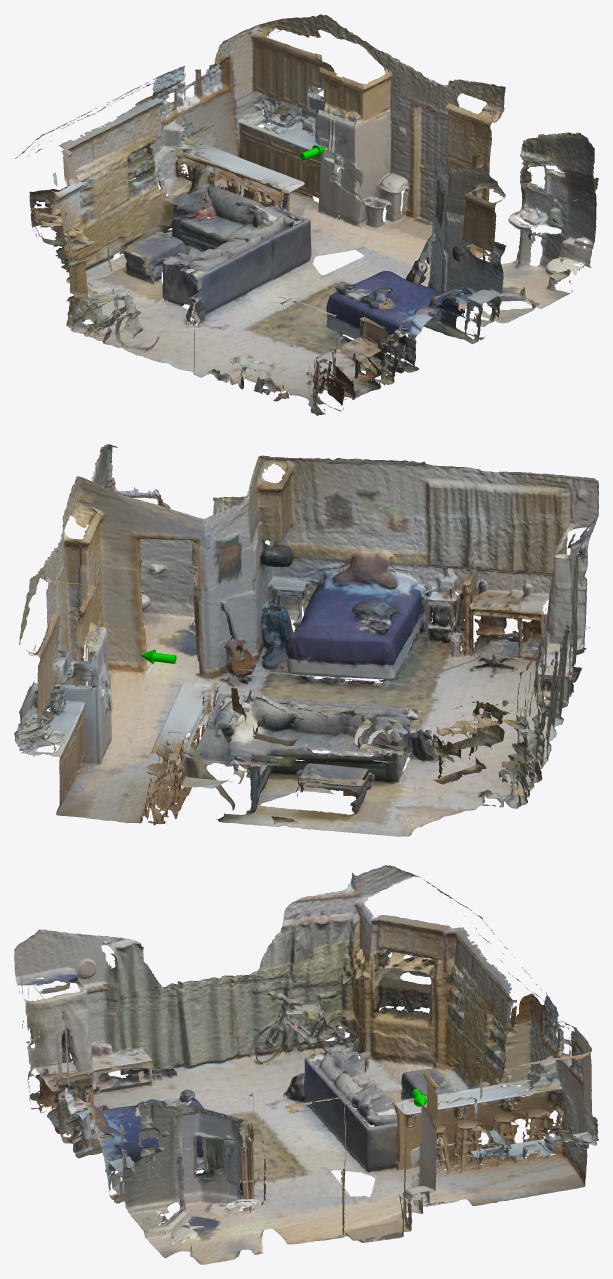
Rendered from situation_7.glb.
The picture shows the model from 3 angles, top to bottom: view 1: azimuth 30°, elevation 25°; view 2: azimuth 150°, elevation 25°; view 3: azimuth 270°, elevation 25°; orthographic projection. The views are drawn at different scales.
Visible parts, largest first — view 1: world; view 2: world; view 3: world.
Boxes of the visible parts, box(x1,y1,x2,y2) form: world: box(15, 14, 598, 415); world: box(14, 444, 598, 836); world: box(14, 865, 598, 1264).
Bounding box in the file's own units: 8.42 × 3.03 × 8.74.
